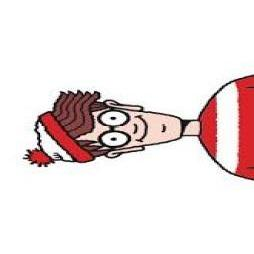waldos: (26, 71, 254, 180)
